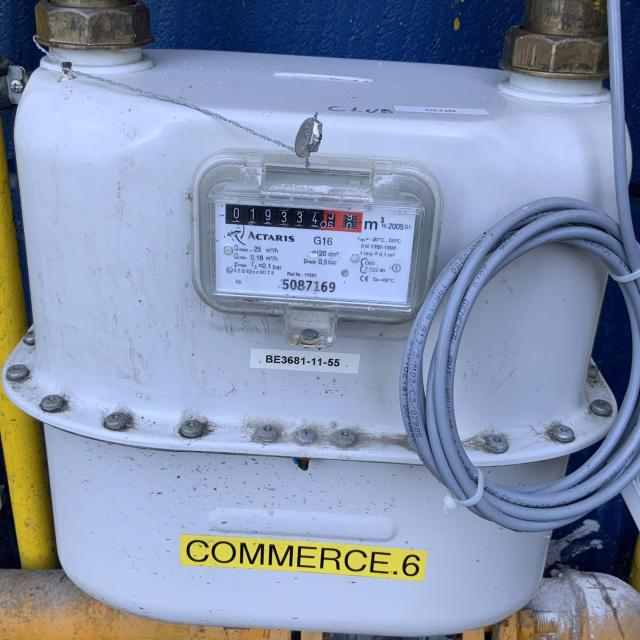gaz_meter: (214, 192, 418, 306)
indication: (225, 202, 362, 234)
